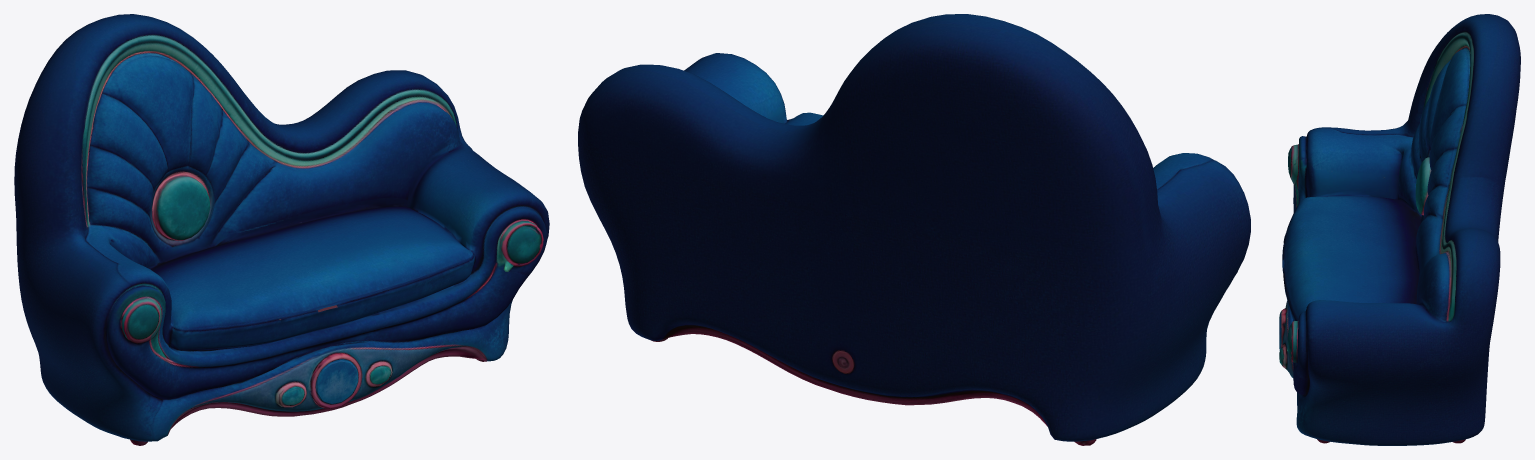
The model's file is tripo_convert_48336353-d29a-41e5-8708-590d1439e68c.fbx.
3 views of the same model, side by side, from view 1: azimuth 30°, elevation 25°; view 2: azimuth 150°, elevation 25°; view 3: azimuth 270°, elevation 25° (orthographic). The views are drawn at different scales.
Visible parts, largest first — view 1: tripo_node_48336353; view 2: tripo_node_48336353; view 3: tripo_node_48336353.
Part boxes in pixels (x1,y1,x2,y2): tripo_node_48336353: (14,14,549,445); tripo_node_48336353: (578,14,1250,445); tripo_node_48336353: (1279,14,1520,445).
Bounding box in the file's own units: 0.9799 × 0.689 × 0.5048.
1 material, 1 textured.
